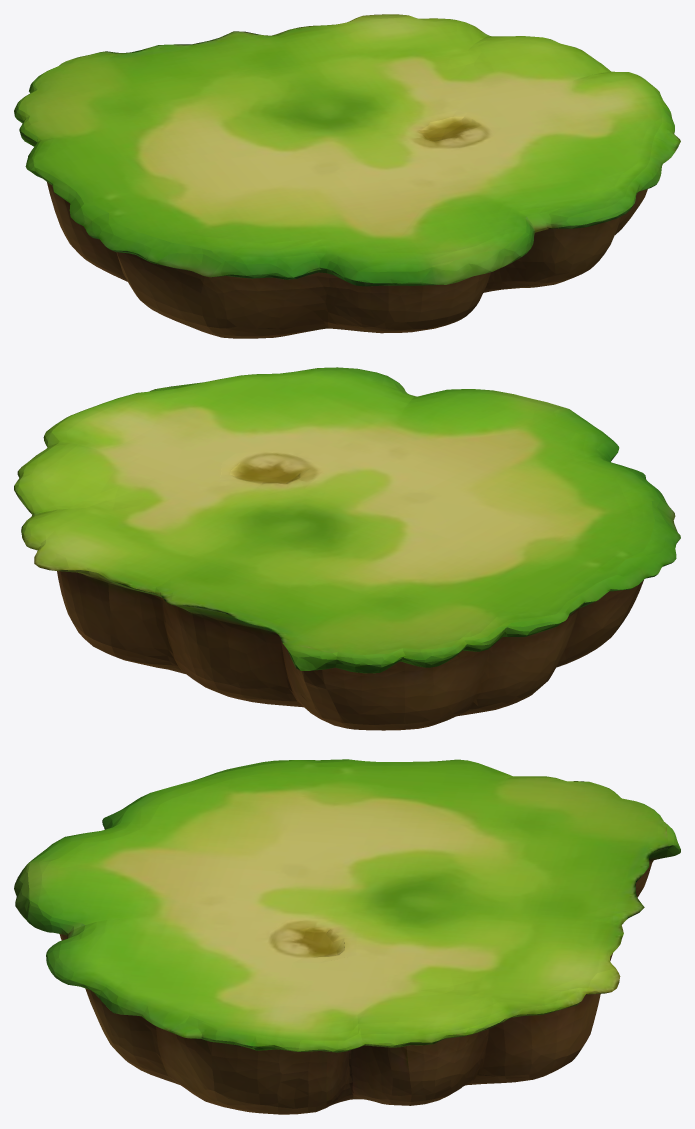
The model's file is space_grassy.glb.
3 renders of one model, top to bottom at view 1: azimuth 30°, elevation 25°; view 2: azimuth 150°, elevation 25°; view 3: azimuth 270°, elevation 25°, orthographic. The views are drawn at different scales.
Parts seen in each view (by area): view 1: world.001; view 2: world.001; view 3: world.001.
Boxes of the visible parts, x1,y1,x2,y2 form: world.001: [14, 14, 680, 338]; world.001: [14, 367, 680, 730]; world.001: [14, 759, 680, 1114].
Size of the model in its own units: 0.9987 by 0.2048 by 0.9502.
1 material, 1 textured.
